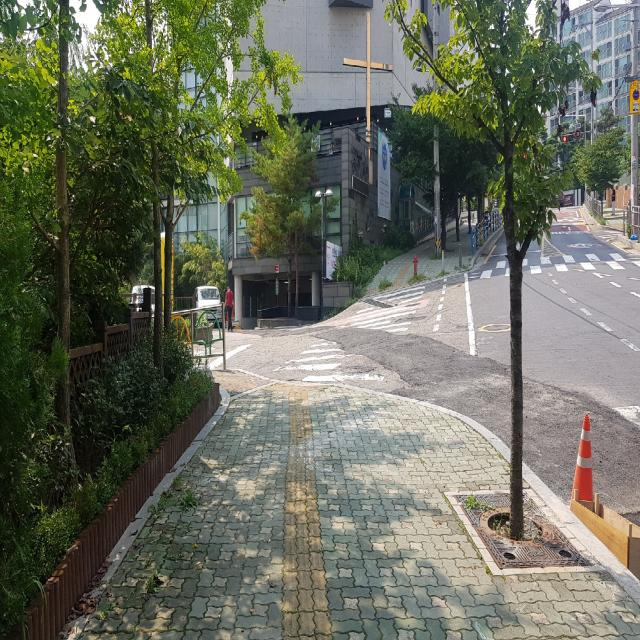횡단보도: (273, 286, 425, 382), (466, 240, 640, 286)
